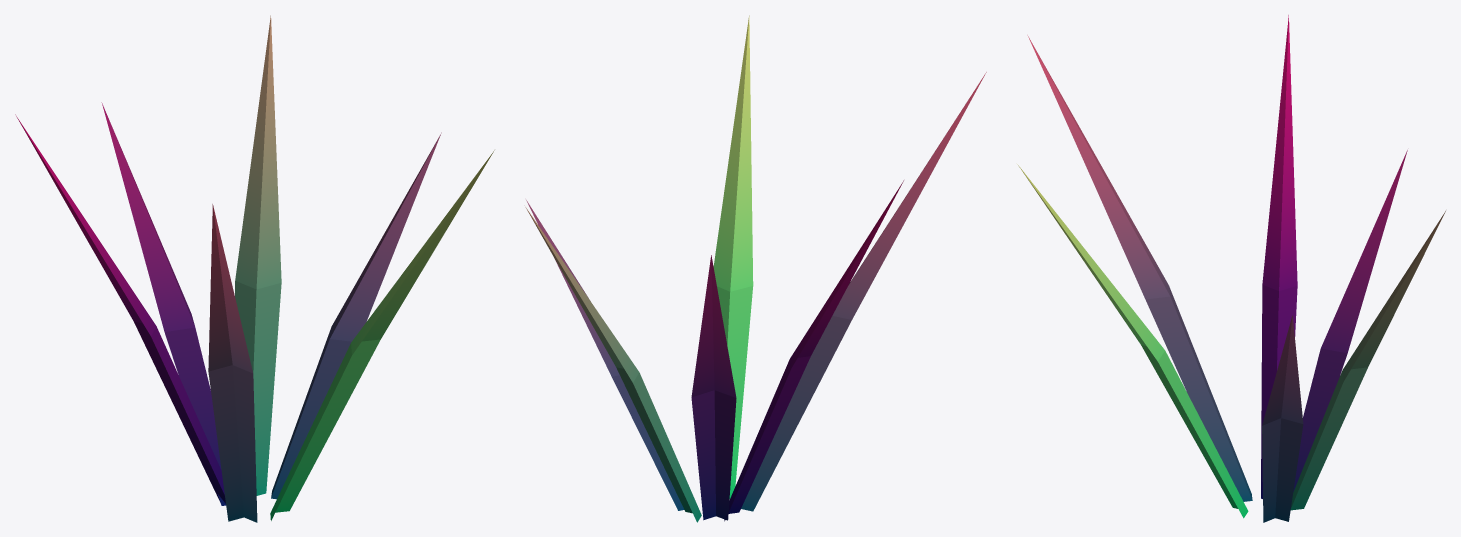
Rendered from grass_clump2_v2.fbx.
3 renders of one model, left to right at view 1: azimuth 30°, elevation 25°; view 2: azimuth 150°, elevation 25°; view 3: azimuth 270°, elevation 25°, orthographic. The views are drawn at different scales.
Visible parts, largest first — view 1: grass_clump2_v2; view 2: grass_clump2_v2; view 3: grass_clump2_v2.
Boxes of the visible parts, box(x1,y1,x2,y2) form: grass_clump2_v2: box(15, 15, 494, 522); grass_clump2_v2: box(525, 15, 986, 522); grass_clump2_v2: box(1017, 15, 1445, 522).
Size of the model in its own units: 90.51 by 89.46 by 87.64.
